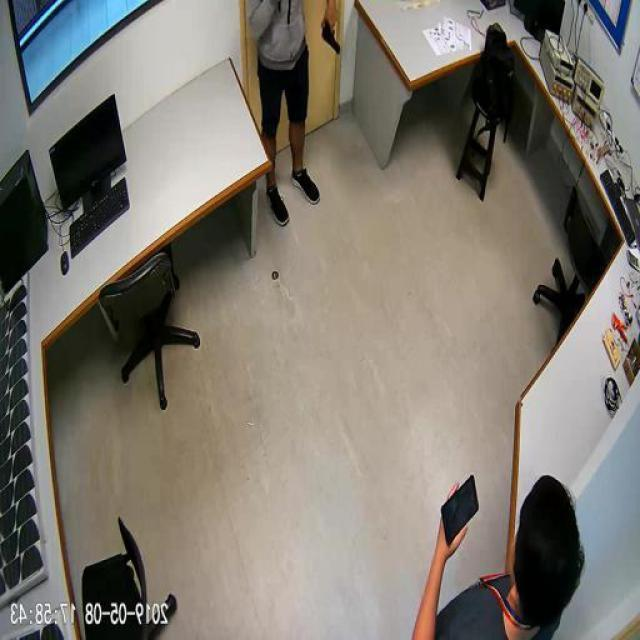weapon: (317, 13, 343, 57)
